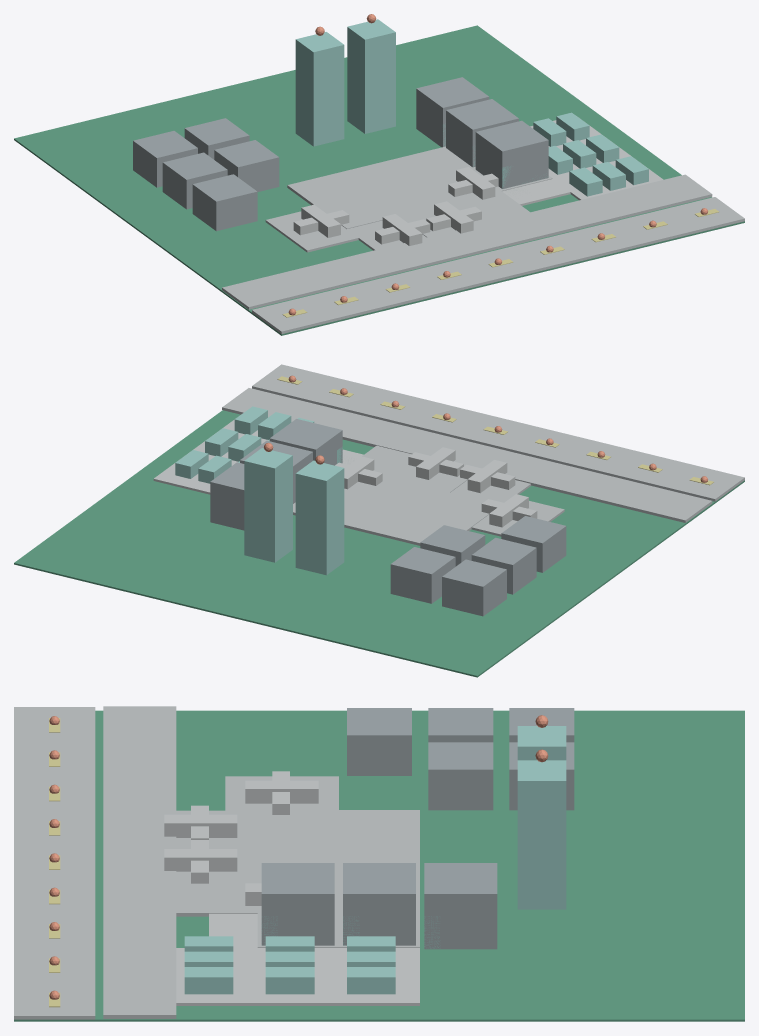
File: stage_23.glb
The picture shows the model from 3 angles, top to bottom: view 1: azimuth 30°, elevation 25°; view 2: azimuth 150°, elevation 25°; view 3: azimuth 270°, elevation 25°; orthographic projection. The views are drawn at different scales.
Parts seen in each view (by area): view 1: geometry_0; view 2: geometry_0; view 3: geometry_0.
Boxes of the visible parts, <box> form: geometry_0: <box>14,14,744,335</box>; geometry_0: <box>14,364,744,677</box>; geometry_0: <box>14,706,744,1021</box>.
Size of the model in its own units: 9 by 2.06 by 9.
